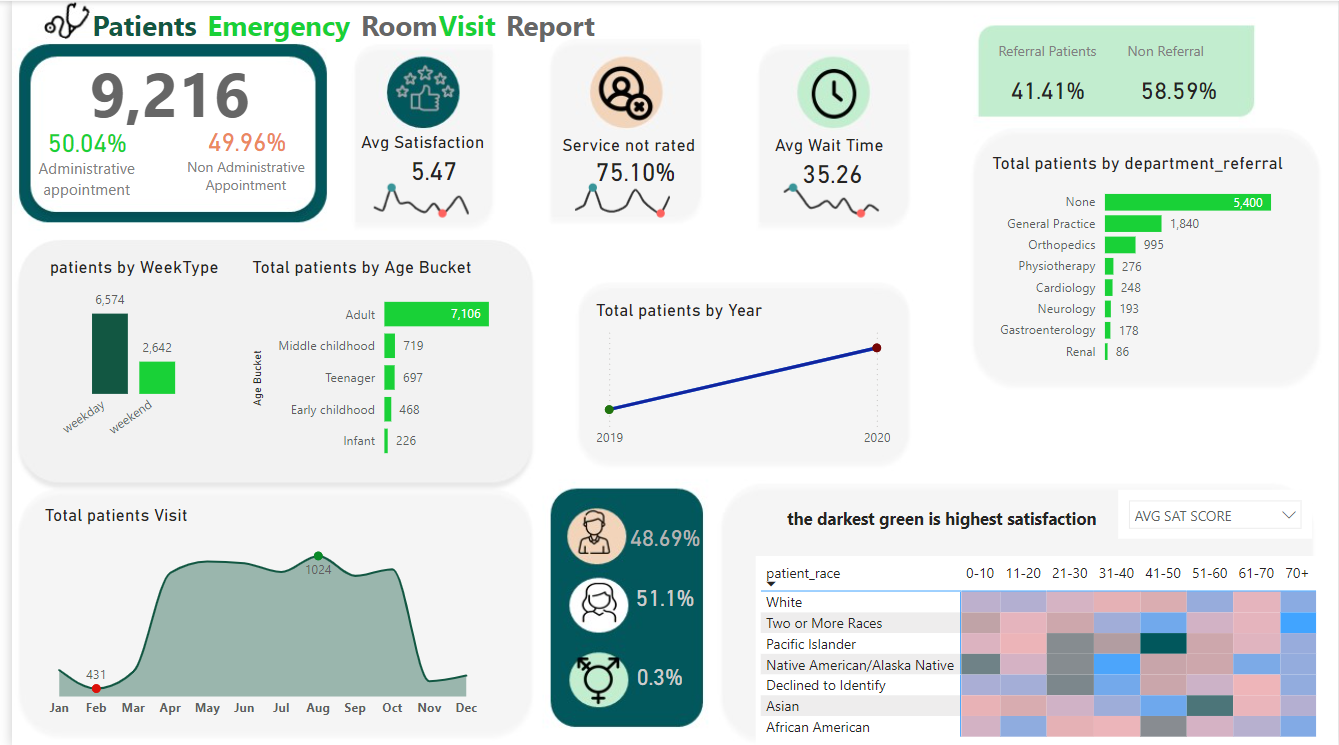

What the dashboard file says about the page in this screenshot:
{"tool":"powerbi","page":{"name":"Page 1","canvas":[1280,720],"ordinal":0},"visuals":[{"type":"card","fields":{"Values":["CALCULATIONS.Total patients"]},"box":[45.7,42.9,212.9,85.7],"z":0},{"type":"card","fields":{"Values":["CALCULATIONS.% Administrative Schedule"]},"box":[27.1,110,91.4,54.3],"z":1000},{"type":"card","fields":{"Values":["CALCULATIONS.% NON-Administrative"]},"box":[182.9,102.9,87.1,67.1],"z":2000},{"type":"card","title":"Avg Satisfaction ","fields":{"Values":["CALCULATIONS.AVG SAT SCORE"]},"box":[331.4,125.7,150,72.9],"z":3000},{"type":"card","title":"Service not rated","fields":{"Values":["CALCULATIONS.NO RATING"]},"box":[525.7,128.6,151.4,51.4],"z":4000},{"type":"card","title":"Avg Wait Time","fields":{"Values":["CALCULATIONS.AVG WAIT TIME"]},"box":[731.4,128.6,121.4,55.7],"z":5000},{"type":"pivotTable","fields":{"Values":["CALCULATIONS.AVG SAT SCORE"],"Rows":["Hospital ER.patient_race"],"Columns":["Hospital ER.AGE GROUP"]},"box":[717.7,535.2,562.6,185.2],"z":6000},{"type":"slicer","fields":{"Values":["Parameter.Parameter"]},"box":[1067.1,471.4,187.1,47.1],"z":7000},{"type":"barChart","fields":{"Category":["Hospital ER.Age Bucket"],"Y":["CALCULATIONS.Total patients"]},"box":[227.1,245.7,270,208.6],"z":8000},{"type":"areaChart","title":"Total patients Visit","fields":{"Category":["date.Month"],"Y":["CALCULATIONS.Total patients","CALCULATIONS.Values max point"]},"box":[27.1,485.7,431.4,214.3],"z":9000},{"type":"lineChart","title":"Total patients by Year","fields":{"Y":["CALCULATIONS.Total patients","CALCULATIONS.Values max point(year)"],"Category":["date.Year"]},"box":[558.6,288.6,294.3,151.4],"z":10000},{"type":"barChart","fields":{"Y":["CALCULATIONS.Total patients"],"Category":["Hospital ER.department_referral"]},"box":[941.4,145.7,312.9,214.3],"z":11000},{"type":"card","fields":{"Values":["CALCULATIONS.% refferal"]},"box":[954.3,58.6,91.4,54.3],"z":12000},{"type":"card","fields":{"Values":["CALCULATIONS.% un refferal"]},"box":[1082.9,58.6,85.7,54.3],"z":13000},{"type":"card","fields":{"Values":["CALCULATIONS.hitmap caption"]},"box":[695.7,468.6,407.1,67.1],"z":14000},{"type":"textbox","box":[15.7,145.7,112.9,51.4],"z":15000},{"type":"textbox","box":[155.7,145.7,140,52.9],"z":16000},{"type":"textbox","box":[931.4,34.3,135.7,42.9],"z":17000},{"type":"textbox","box":[1048.6,34.3,130,47.1],"z":18000},{"type":"columnChart","title":"patients by WeekType","fields":{"Y":["CALCULATIONS.Total patients"],"Category":["date.WeekType"]},"box":[31.4,245.7,174.3,194.3],"z":19000},{"type":"card","fields":{"Values":["CALCULATIONS.Female visit"]},"box":[591.4,485.7,78.6,64.3],"z":20000},{"type":"card","fields":{"Values":["CALCULATIONS.male visit"]},"box":[590,550,80,51.4],"z":21000},{"type":"card","fields":{"Values":["CALCULATIONS.NC visit"]},"box":[580,615.7,90,74.3],"z":22000},{"type":"PBI_CV_25997FEB_F466_44FA_B562_AC4063283C4C","fields":{"measure":["CALCULATIONS.AVG SAT SCORE"],"axis":["date.Month"]},"box":[331.4,162.9,130,52.9],"z":23000},{"type":"PBI_CV_25997FEB_F466_44FA_B562_AC4063283C4C","fields":{"axis":["date.Month"],"measure":["CALCULATIONS.NO RATING"]},"box":[525.7,162.9,130,52.9],"z":24000},{"type":"PBI_CV_25997FEB_F466_44FA_B562_AC4063283C4C","fields":{"measure":["CALCULATIONS.AVG WAIT TIME"],"axis":["date.Month"]},"box":[727.1,162.9,130,52.9],"z":25000},{"type":"textbox","box":[72.9,0,121.4,48.6],"z":26000},{"type":"textbox","box":[183.4,0,158,45.8],"z":27000},{"type":"textbox","box":[331.4,0,92.9,45.7],"z":28000},{"type":"textbox","box":[407.1,0,150,45.7],"z":29000},{"type":"textbox","box":[471.4,0,110,45.7],"z":30000}]}

Visuals, with their boxes in screenshot pixels (x1, y1, x2, y2), scaled from the page's 1280x720 canvas onto the 1339x745 screenshot:
card - CALCULATIONS.Total patients: <region>48, 44, 271, 133</region>
card - CALCULATIONS.% Administrative Schedule: <region>28, 114, 124, 170</region>
card - CALCULATIONS.% NON-Administrative: <region>191, 106, 282, 176</region>
"Avg Satisfaction " card: <region>347, 130, 504, 205</region>
"Service not rated" card: <region>550, 133, 708, 186</region>
"Avg Wait Time" card: <region>765, 133, 892, 191</region>
pivotTable - CALCULATIONS.AVG SAT SCORE x Hospital ER.patient_race: <region>751, 554, 1338, 744</region>
slicer - Parameter.Parameter: <region>1116, 488, 1312, 537</region>
barChart - Hospital ER.Age Bucket x CALCULATIONS.Total patients: <region>238, 254, 520, 470</region>
"Total patients Visit" areaChart: <region>28, 503, 480, 724</region>
"Total patients by Year" lineChart: <region>584, 299, 892, 455</region>
barChart - CALCULATIONS.Total patients x Hospital ER.department_referral: <region>985, 151, 1312, 373</region>
card - CALCULATIONS.% refferal: <region>998, 61, 1094, 117</region>
card - CALCULATIONS.% un refferal: <region>1133, 61, 1222, 117</region>
card - CALCULATIONS.hitmap caption: <region>728, 485, 1154, 554</region>
textbox: <region>16, 151, 135, 204</region>
textbox: <region>163, 151, 309, 205</region>
textbox: <region>974, 35, 1116, 80</region>
textbox: <region>1097, 35, 1233, 84</region>
"patients by WeekType" columnChart: <region>33, 254, 215, 455</region>
card - CALCULATIONS.Female visit: <region>619, 503, 701, 569</region>
card - CALCULATIONS.male visit: <region>617, 569, 701, 622</region>
card - CALCULATIONS.NC visit: <region>607, 637, 701, 714</region>
PBI_CV_25997FEB_F466_44FA_B562_AC4063283C4C - CALCULATIONS.AVG SAT SCORE x date.Month: <region>347, 169, 483, 223</region>
PBI_CV_25997FEB_F466_44FA_B562_AC4063283C4C - date.Month x CALCULATIONS.NO RATING: <region>550, 169, 686, 223</region>
PBI_CV_25997FEB_F466_44FA_B562_AC4063283C4C - CALCULATIONS.AVG WAIT TIME x date.Month: <region>761, 169, 897, 223</region>
textbox: <region>76, 0, 203, 50</region>
textbox: <region>192, 0, 357, 47</region>
textbox: <region>347, 0, 444, 47</region>
textbox: <region>426, 0, 583, 47</region>
textbox: <region>493, 0, 608, 47</region>
